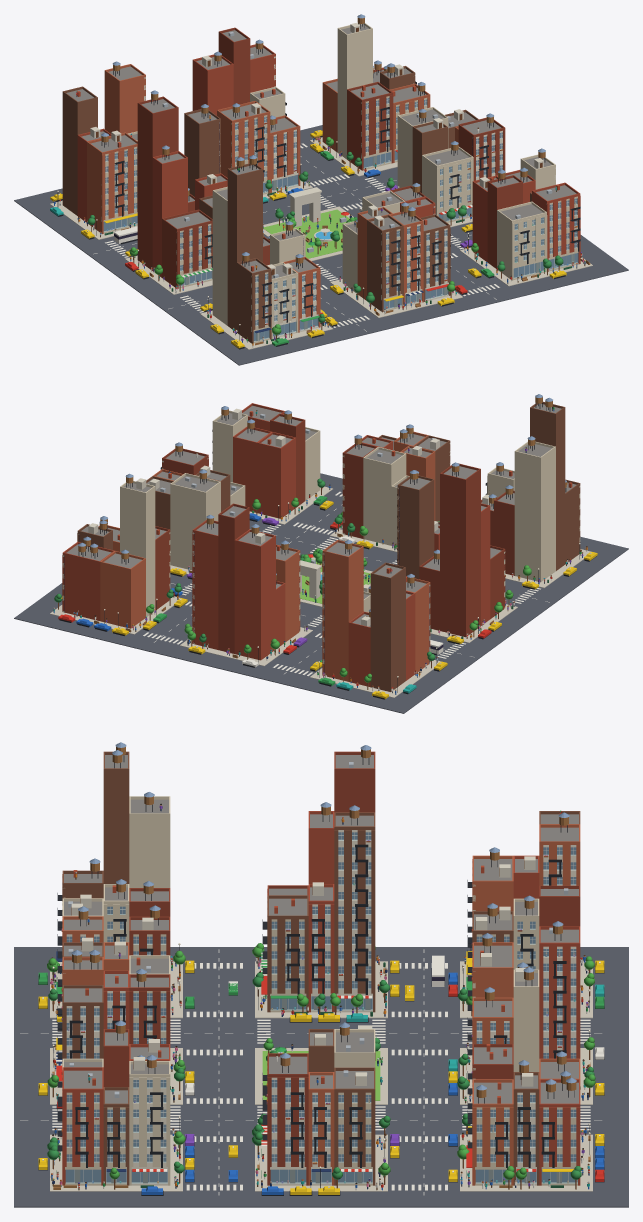
The model's file is quartier.glb.
3 renders of one model, top to bottom at view 1: azimuth 30°, elevation 25°; view 2: azimuth 150°, elevation 25°; view 3: azimuth 270°, elevation 25°, orthographic. The views are drawn at different scales.
Parts seen in each view (by area): view 1: Quartier, Vitres; view 2: Quartier; view 3: Quartier, Vitres.
Part boxes in pixels (x1,y1,x2,y2): Quartier: [14, 14, 628, 365]; Vitres: [103, 98, 578, 341]; Quartier: [14, 394, 628, 713]; Quartier: [14, 742, 628, 1207]; Vitres: [65, 832, 577, 1183].
Size of the model in its own units: 120 by 50.05 by 120.
